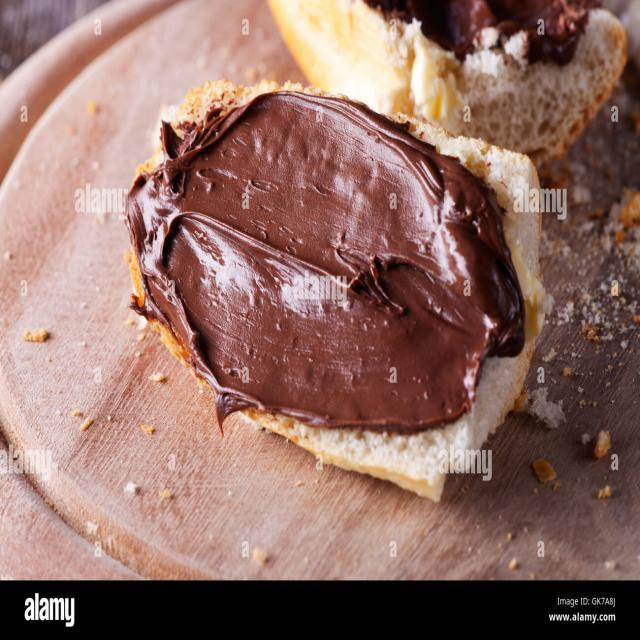Spread: (120, 96, 528, 448)
